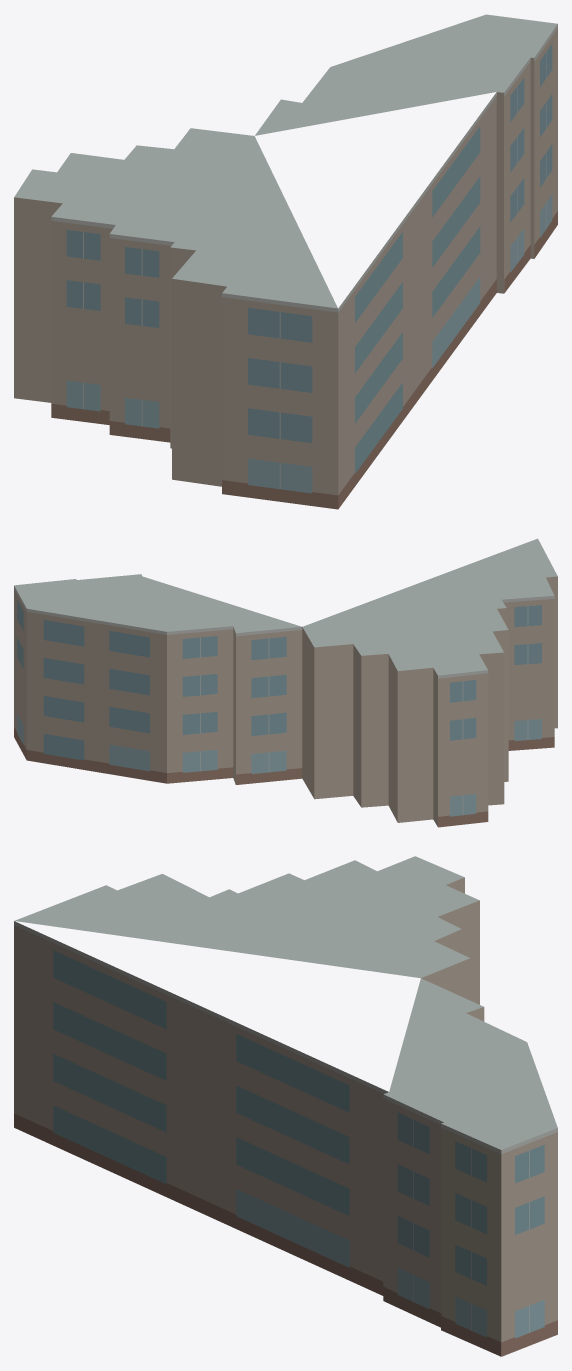
The model's file is survey-upis-32697579.glb.
The picture shows the model from 3 angles, top to bottom: view 1: azimuth 30°, elevation 25°; view 2: azimuth 150°, elevation 25°; view 3: azimuth 270°, elevation 25°; orthographic projection. The views are drawn at different scales.
Parts seen in each view (by area): view 1: survey-upis-32697579.tmp; view 2: survey-upis-32697579.tmp; view 3: survey-upis-32697579.tmp.
Boxes of the visible parts, x1,y1,x2,y2 form: survey-upis-32697579.tmp: [14, 14, 557, 509]; survey-upis-32697579.tmp: [14, 538, 557, 827]; survey-upis-32697579.tmp: [14, 856, 557, 1356].
Size of the model in its own units: 36.92 by 12.1 by 28.86.
